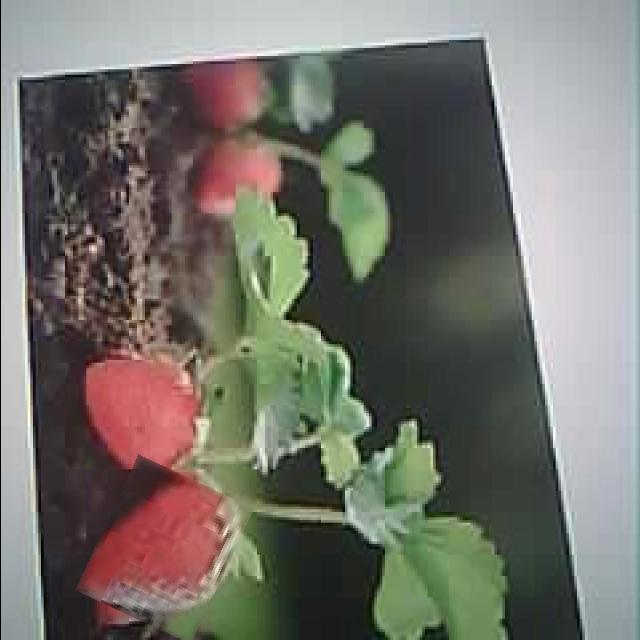strawberry: (87, 464, 240, 634)
